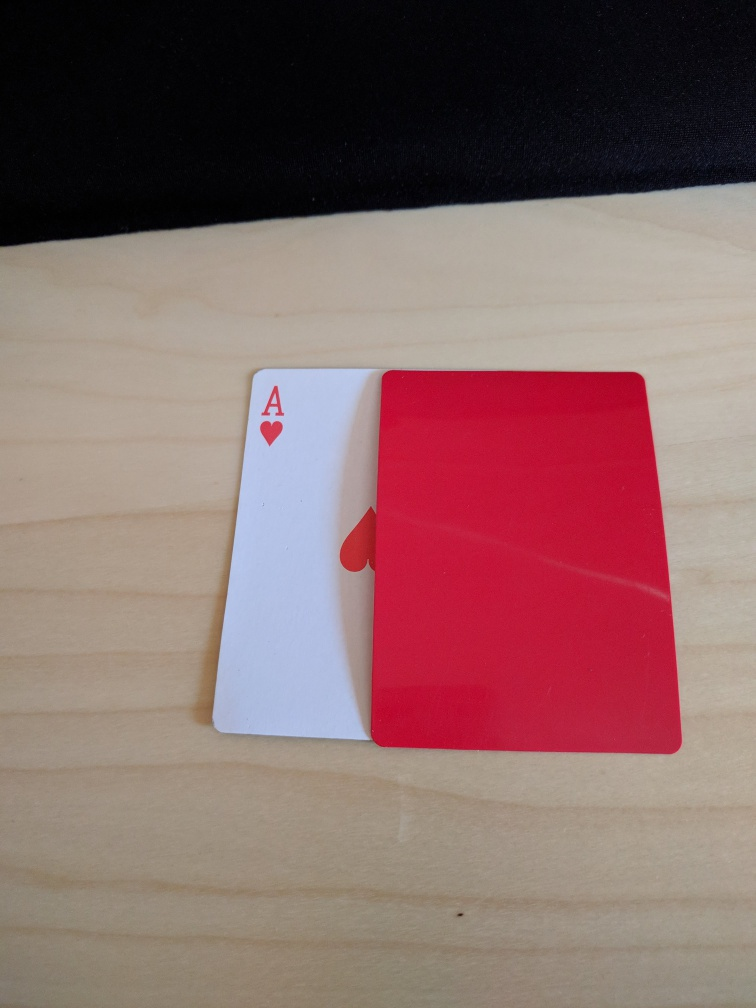ace: (211, 365, 386, 742)
